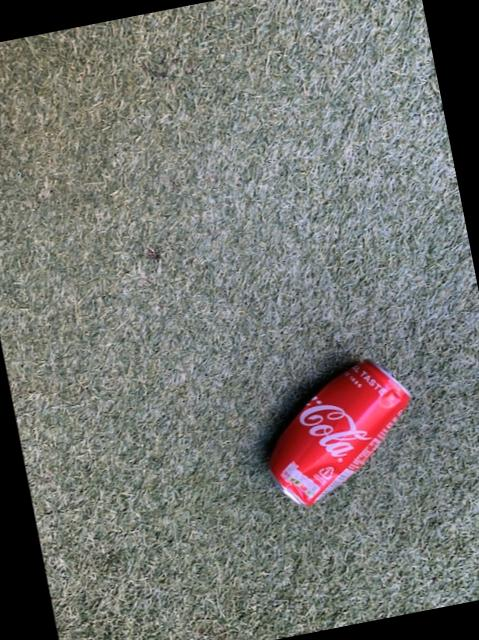metal: (267, 358, 407, 503)
